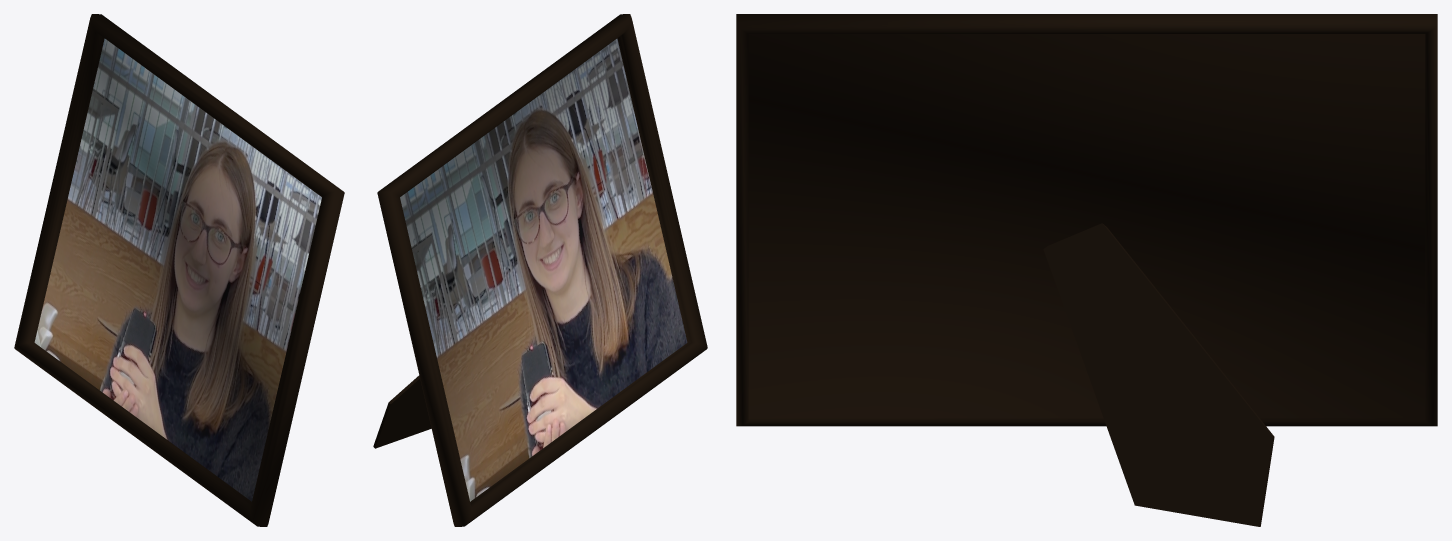
The model's file is pictureframe.fbx.
3 views of the same model, side by side, from view 1: azimuth 30°, elevation 25°; view 2: azimuth 150°, elevation 25°; view 3: azimuth 270°, elevation 25° (orthographic). The views are drawn at different scales.
Parts seen in each view (by area): view 1: Cube; view 2: Cube, Stand; view 3: Cube, Stand.
Part boxes in pixels (box(x1,y1,x2,y2)): Cube: box(14, 14, 344, 526); Cube: box(377, 14, 707, 526); Stand: box(373, 375, 431, 448); Cube: box(736, 14, 1437, 426); Stand: box(1043, 223, 1274, 526).
Bounding box in the file's own units: 14.95 × 29.39 × 40.49.
2 materials, 1 textured.
